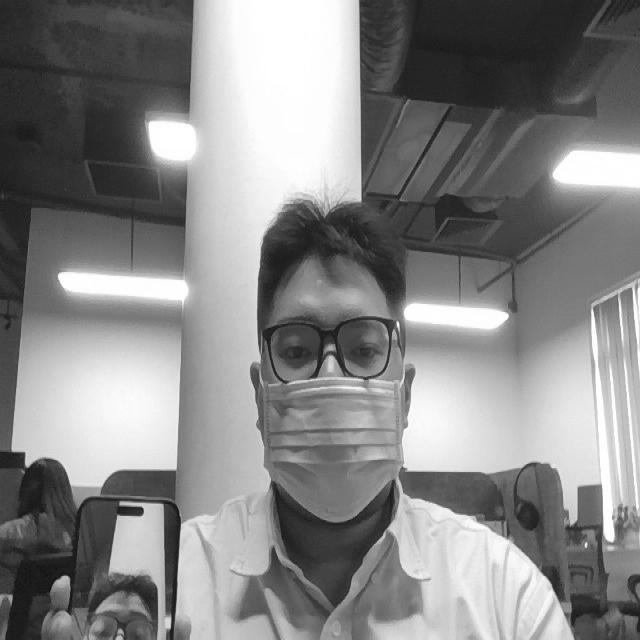fake: (260, 373, 405, 525), (67, 483, 187, 640), (81, 566, 165, 640)
real: (245, 174, 426, 548), (267, 307, 401, 380)
